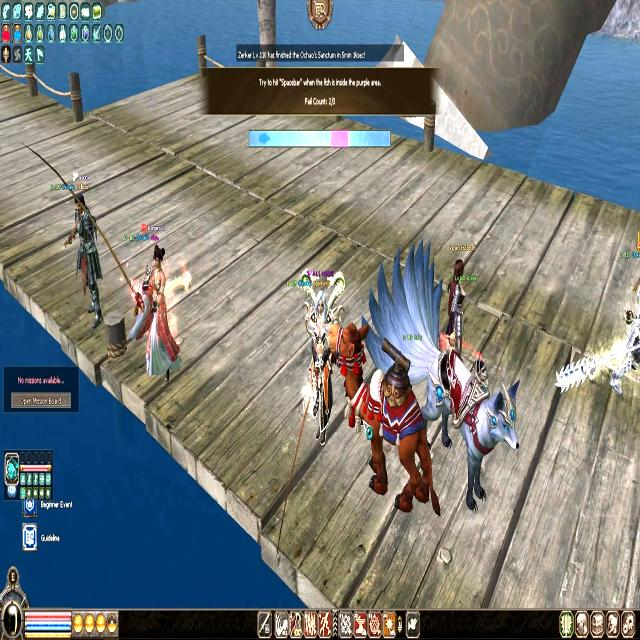fishes: (258, 130, 271, 146)
